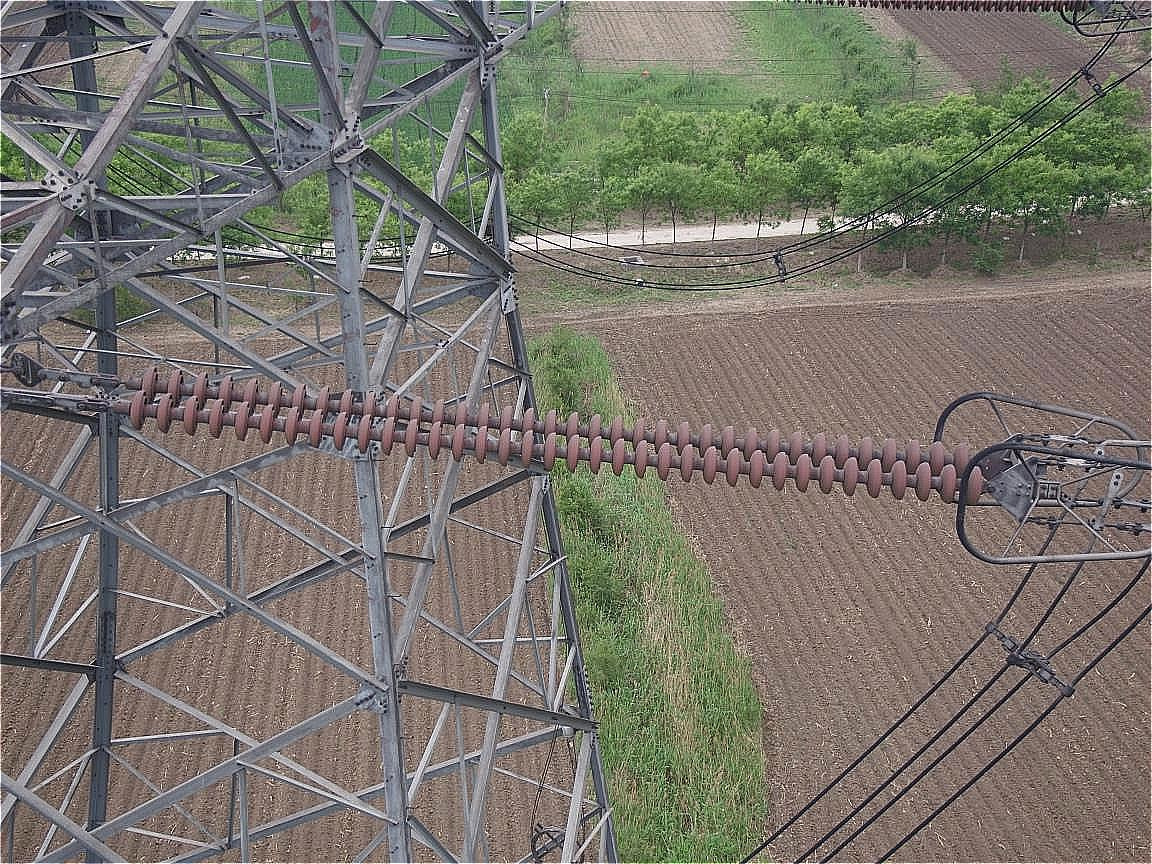insultor1: (106, 344, 1028, 526)
